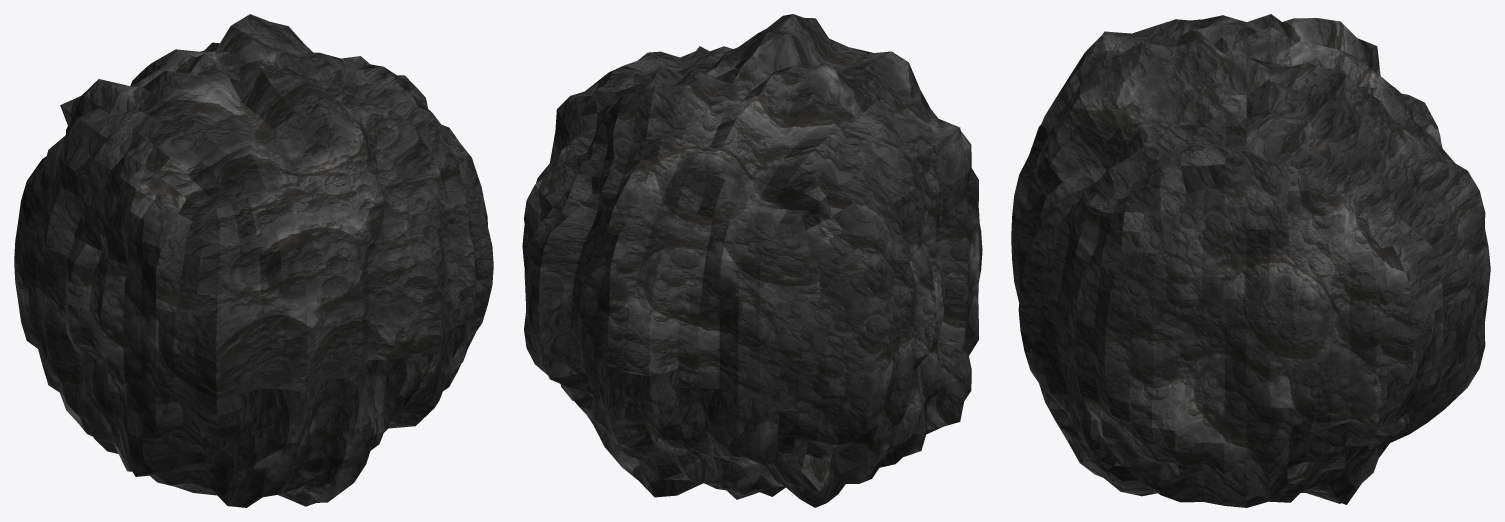
The model's file is asteroid69.obj.
3 renders of one model, left to right at view 1: azimuth 30°, elevation 25°; view 2: azimuth 150°, elevation 25°; view 3: azimuth 270°, elevation 25°, orthographic. The views are drawn at different scales.
Visible parts, largest first — view 1: Cube_Cube.002; view 2: Cube_Cube.002; view 3: Cube_Cube.002.
Part boxes in pixels (x1,y1,x2,y2): Cube_Cube.002: (14,14,493,507); Cube_Cube.002: (522,14,982,507); Cube_Cube.002: (1011,14,1490,507).
Bounding box in the file's own units: 1.7 × 1.85 × 1.74.
